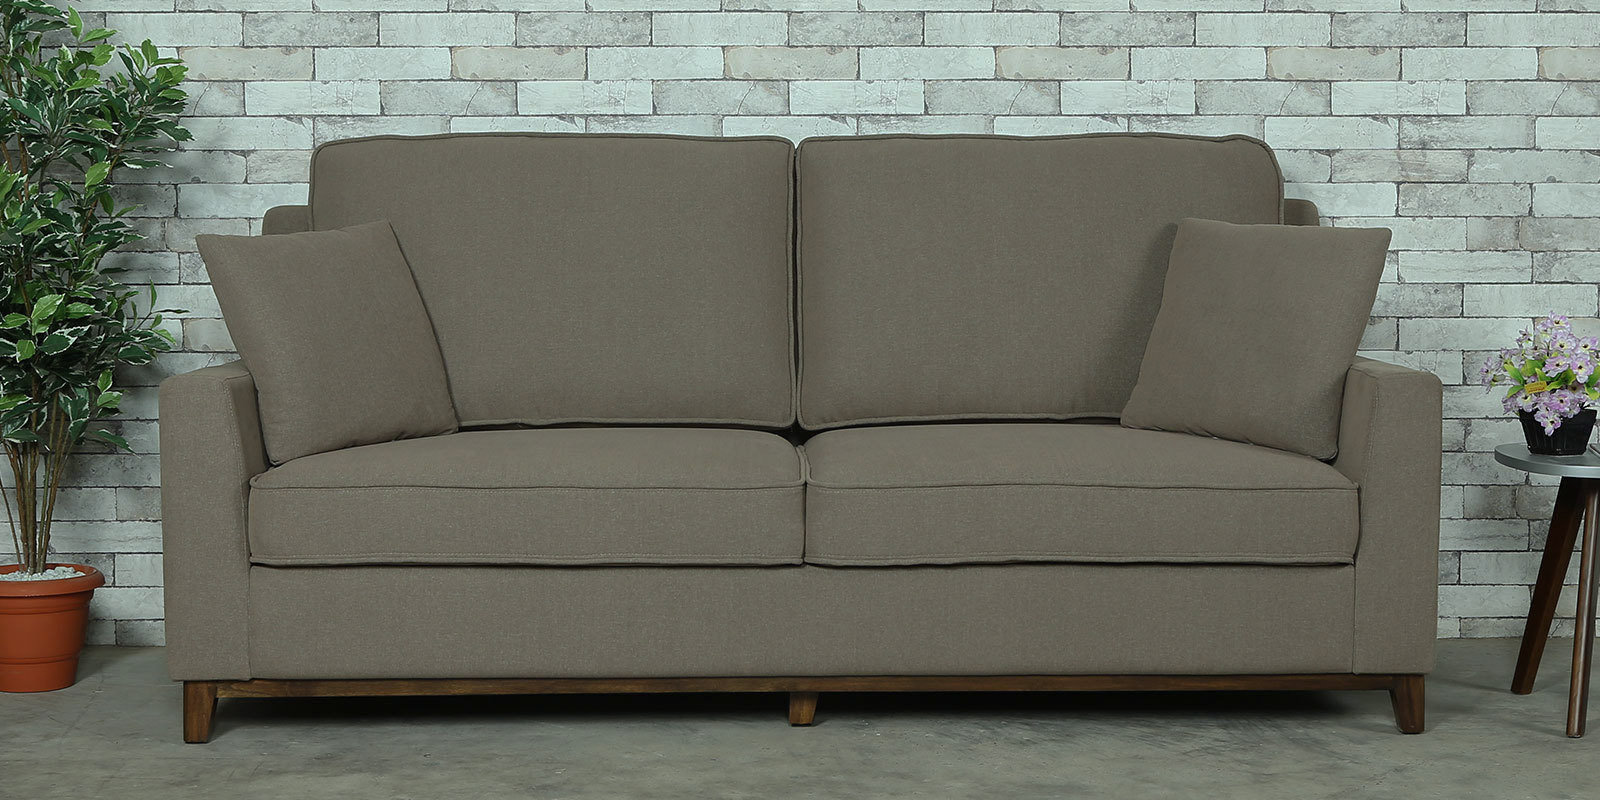Diego Three Seater Sofa in Sandy Colour by CasaCraft: (145, 113, 1460, 753)
